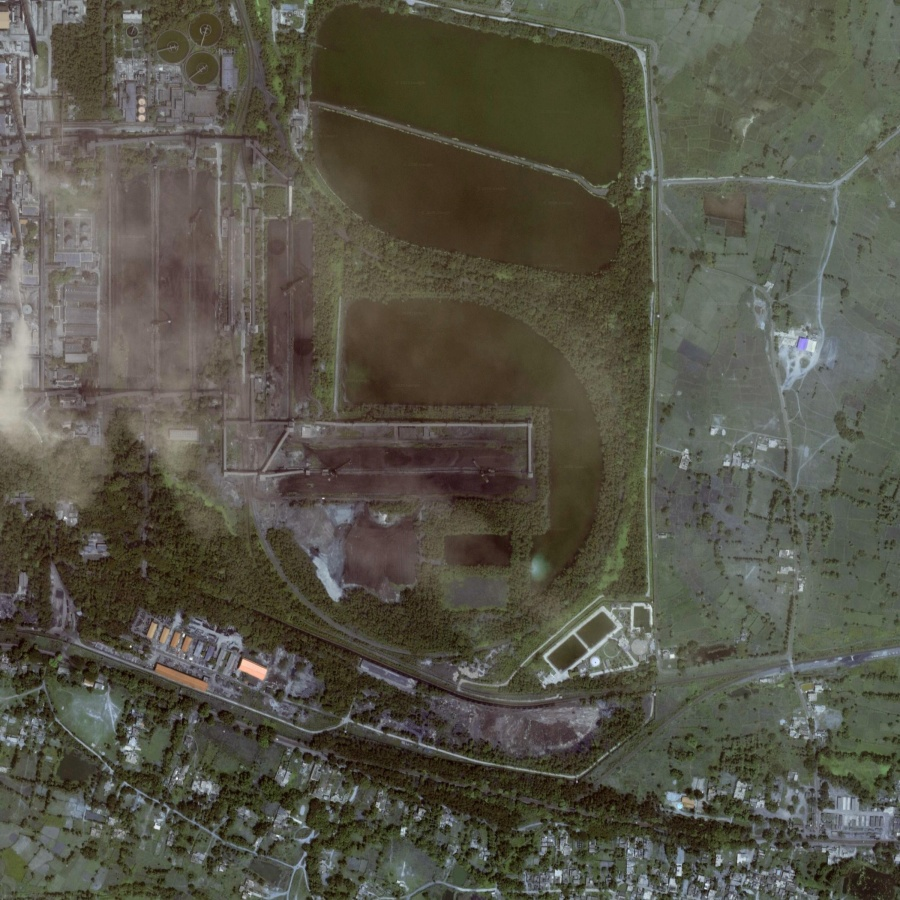PowerPlant: (259, 421, 543, 607)
